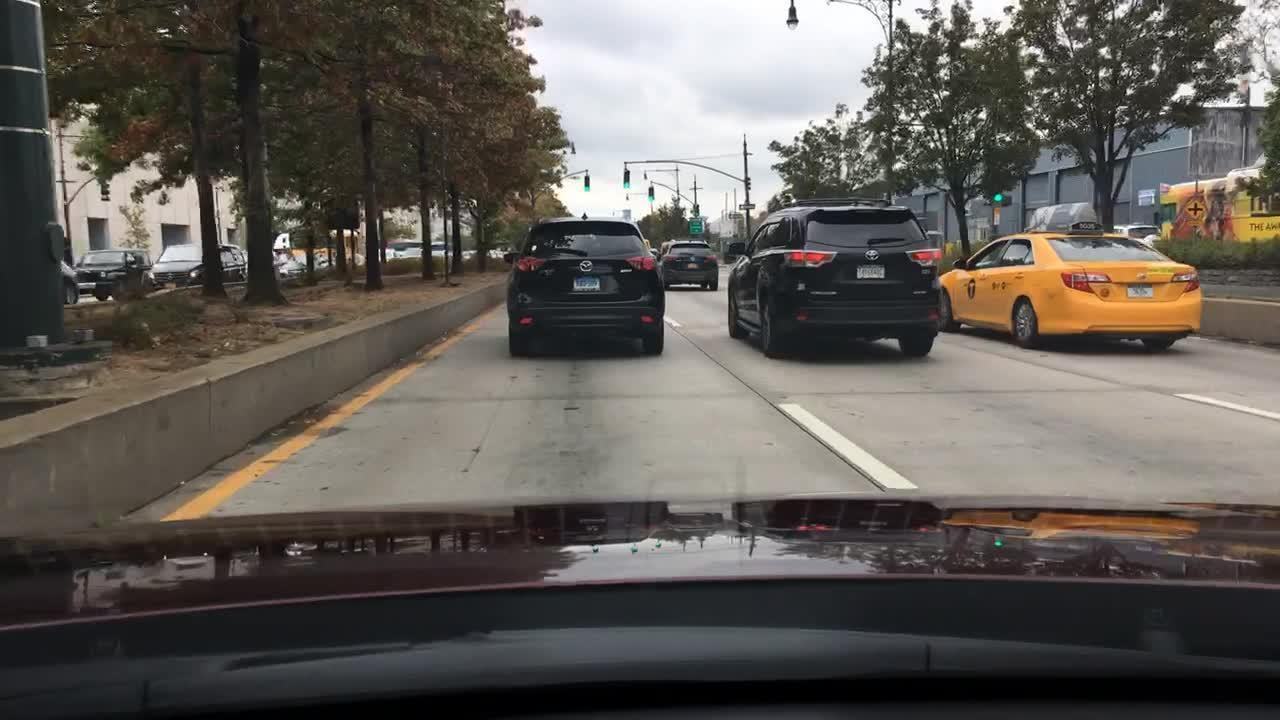Mazda: (574, 253, 599, 279)
Toyota: (859, 248, 889, 264)
